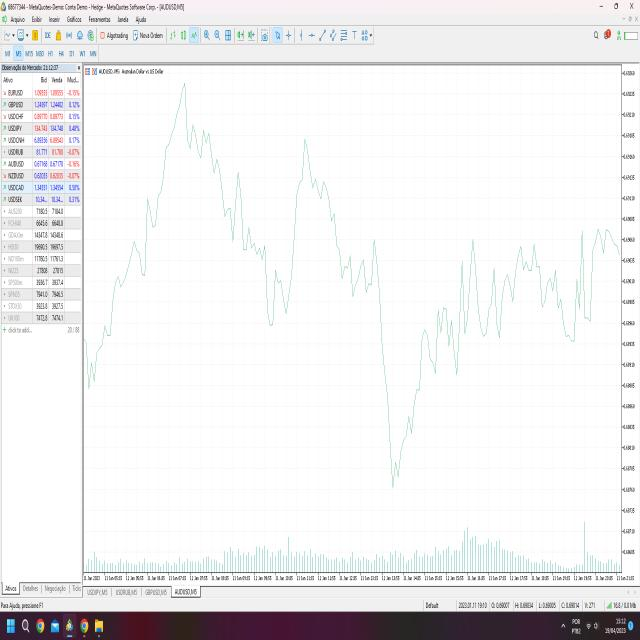bandeira_alta: (394, 237, 460, 510)
